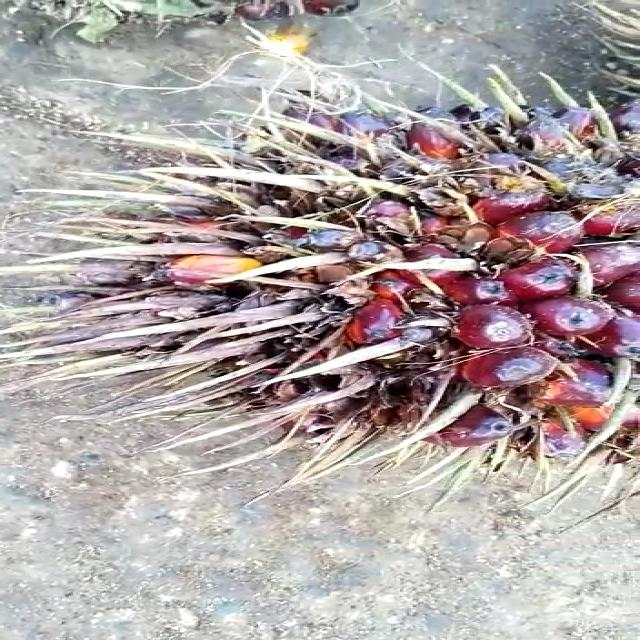palm oil: (45, 97, 640, 467)
